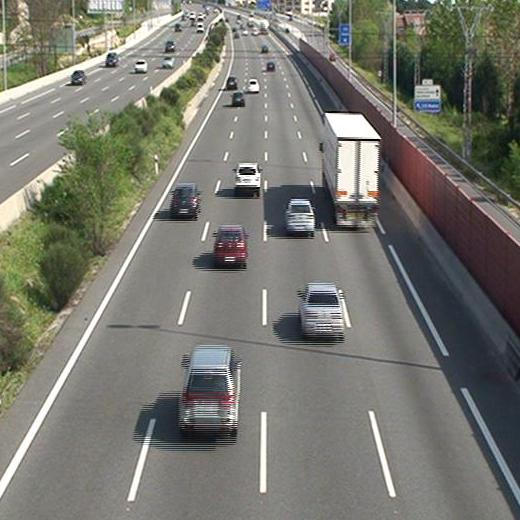car: (181, 344, 242, 435), (299, 284, 345, 337), (214, 227, 245, 266), (285, 199, 315, 232), (171, 185, 198, 216), (234, 162, 260, 192), (232, 91, 244, 106), (226, 75, 238, 90), (247, 78, 260, 91), (265, 61, 275, 72)
truck: (320, 112, 381, 229)
